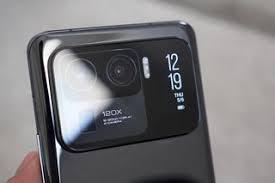Smartphone: (17, 17, 222, 183)
